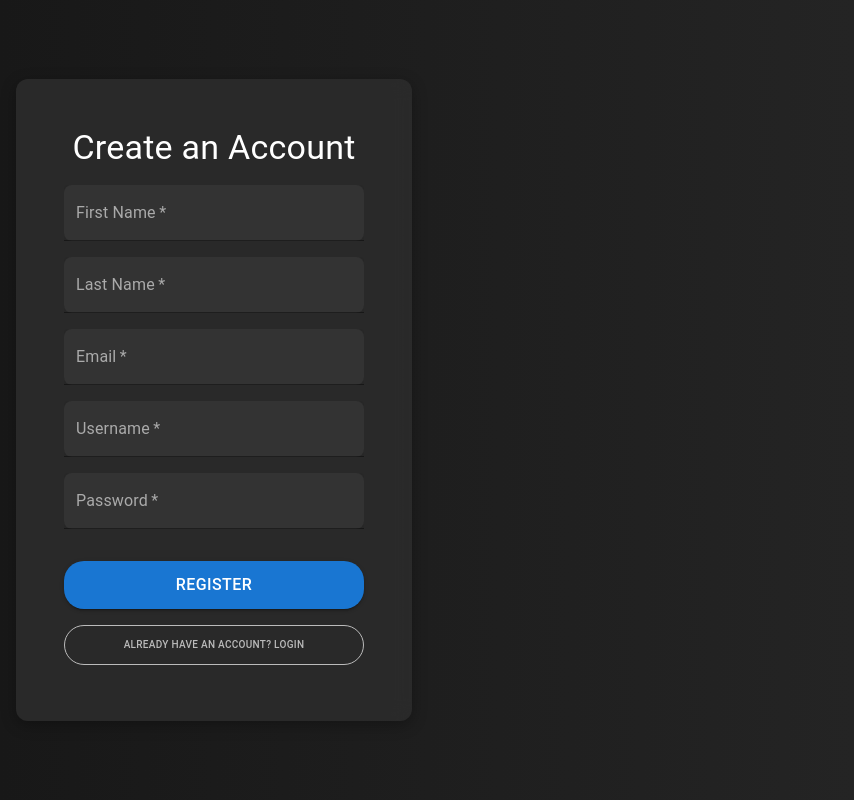
Test: Register Page › should validate password length
The image size is (854, 800).
Fill all fields but with short password
Type "Test" into the field with id "tf-fName".
click(214, 213); type("Test")  # box [64,185,364,241]
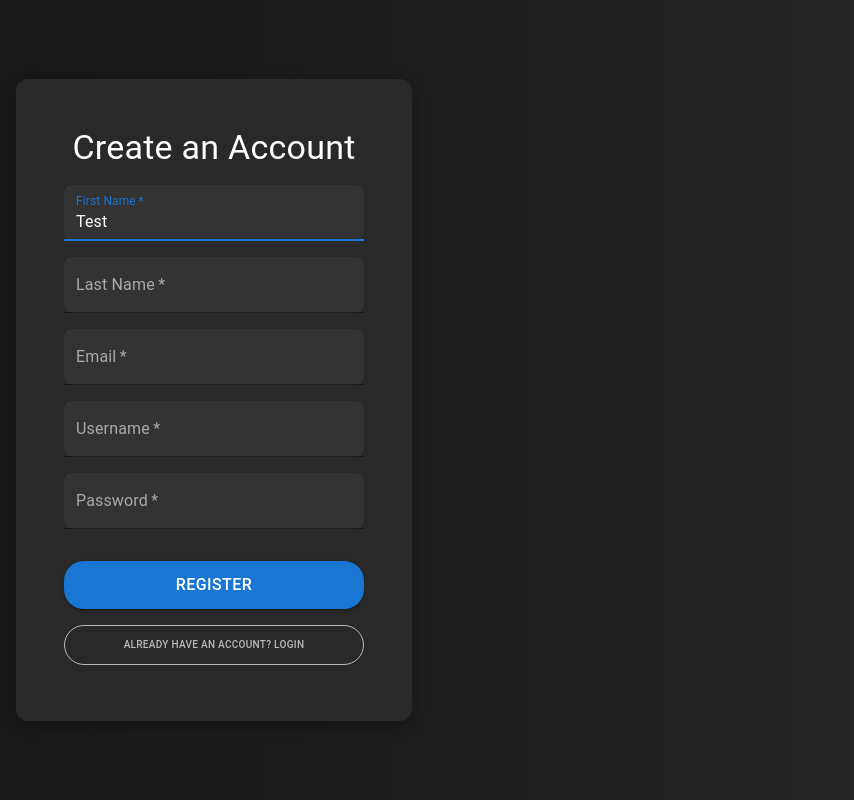
Type "User" into the field with id "tf-lName".
click(214, 285); type("User")  # box [64,257,364,313]
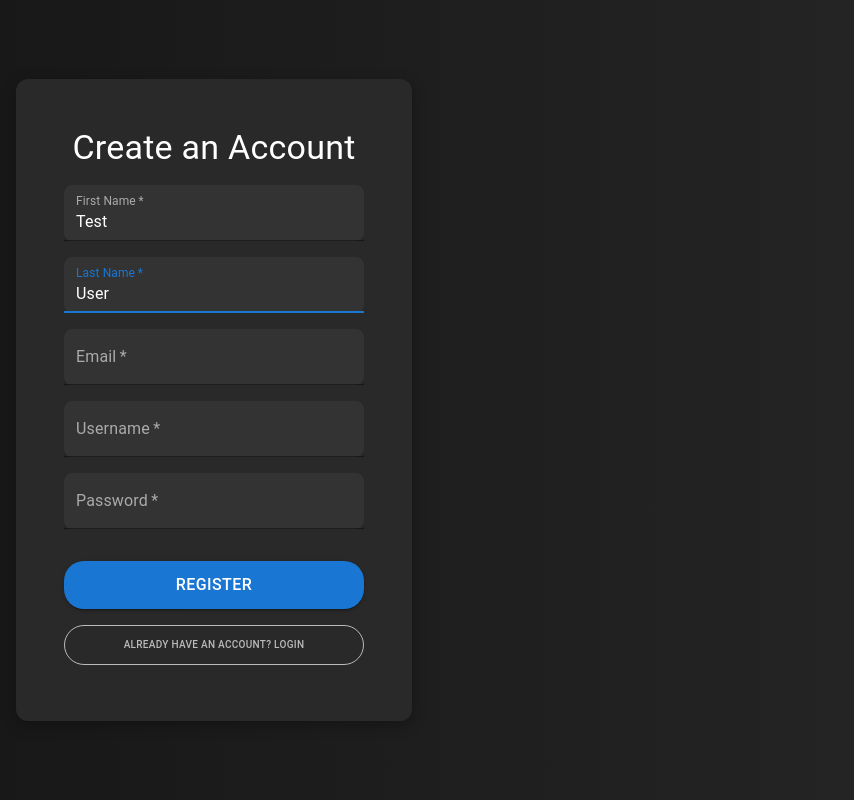
Type "test@example.com" into the field with id "tf-email".
click(214, 357); type("test@example.com")  # box [64,329,364,385]
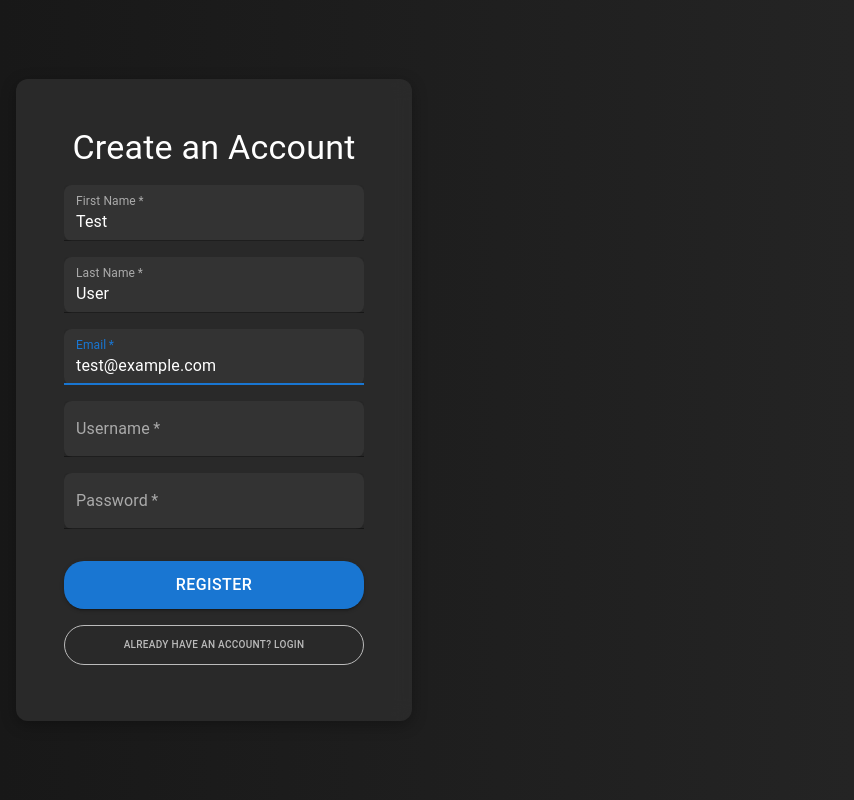
Type "testuser" into the field with id "tf-username".
click(214, 429); type("testuser")  # box [64,401,364,457]
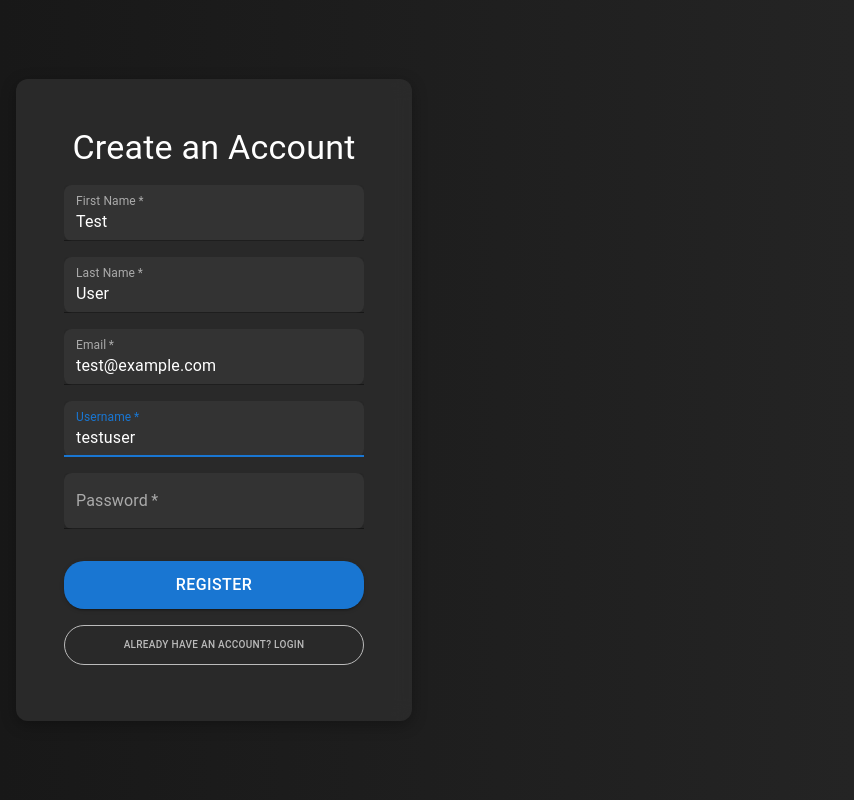
Type "123" into the password field with id "tf-password".
click(214, 501); type("123")  # box [64,473,364,529]
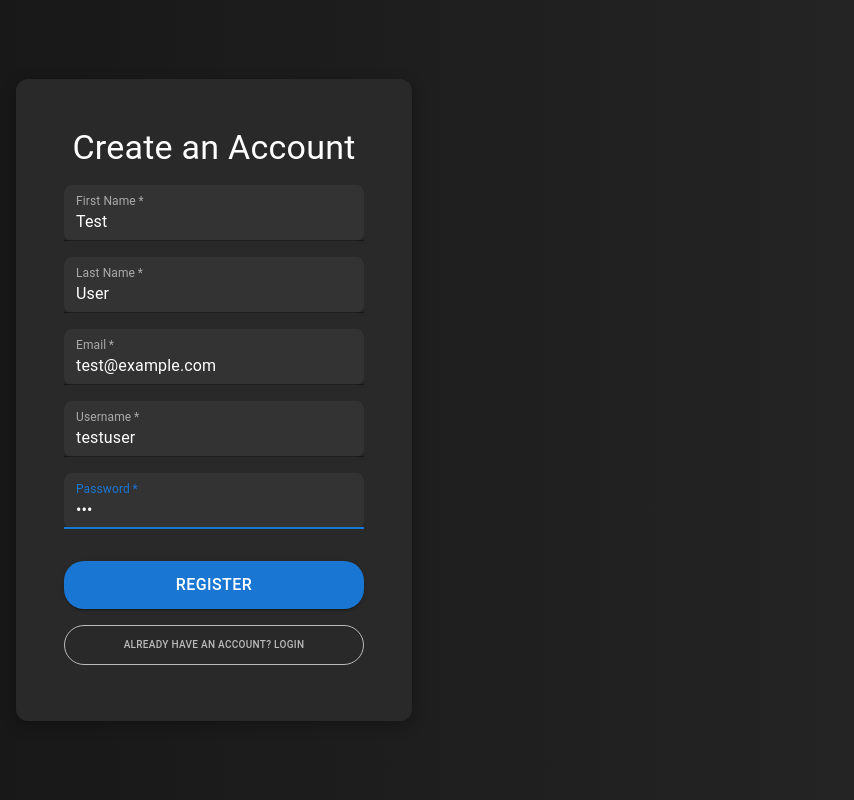
Click the button "Register".
click(214, 585)  # box [64,561,364,609]
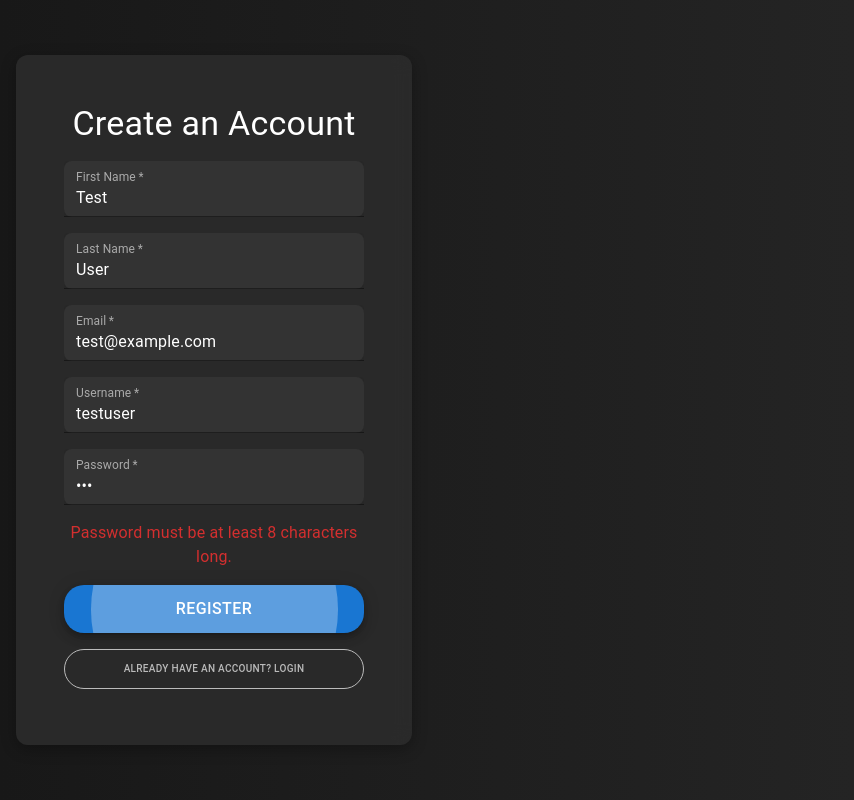
Check: the text "Password must be at least 8 characters long." is shown, box [64,521,364,569]
